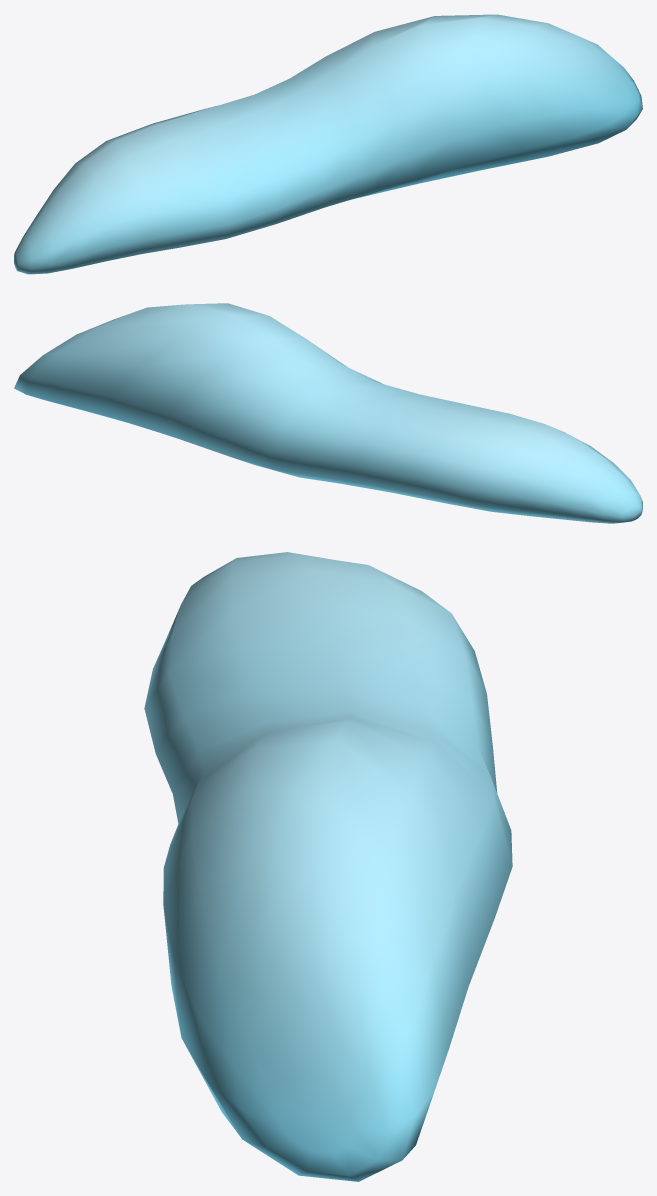
The model's file is Cloud_Medium_C.fbx.
The picture shows the model from 3 angles, top to bottom: view 1: azimuth 30°, elevation 25°; view 2: azimuth 150°, elevation 25°; view 3: azimuth 270°, elevation 25°; orthographic projection. The views are drawn at different scales.
Visible parts, largest first — view 1: Cloud_Medium_C; view 2: Cloud_Medium_C; view 3: Cloud_Medium_C.
Part boxes in pixels (left/top/right/bottom): Cloud_Medium_C: left=14, top=14, right=642, bottom=274; Cloud_Medium_C: left=14, top=303, right=642, bottom=523; Cloud_Medium_C: left=144, top=552, right=512, bottom=1181.
Bounding box in the file's own units: 1375 × 287 × 368.
